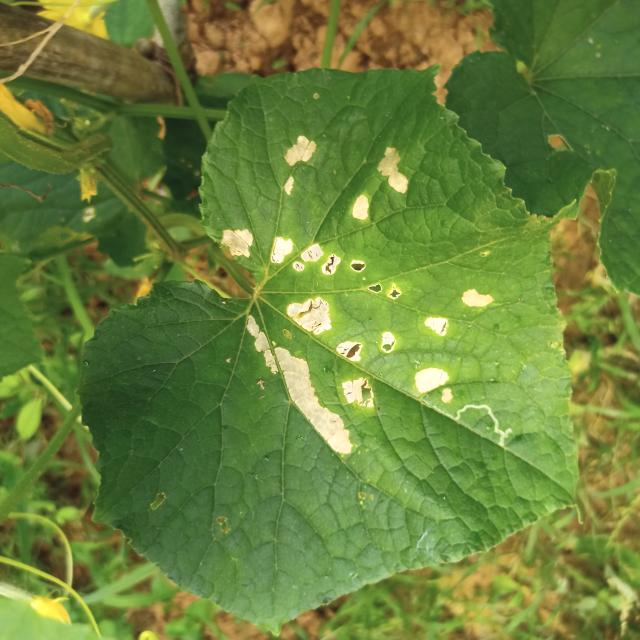disease_cucumber: (242, 296, 376, 456), (380, 270, 506, 404), (218, 226, 407, 305), (277, 133, 420, 227)
